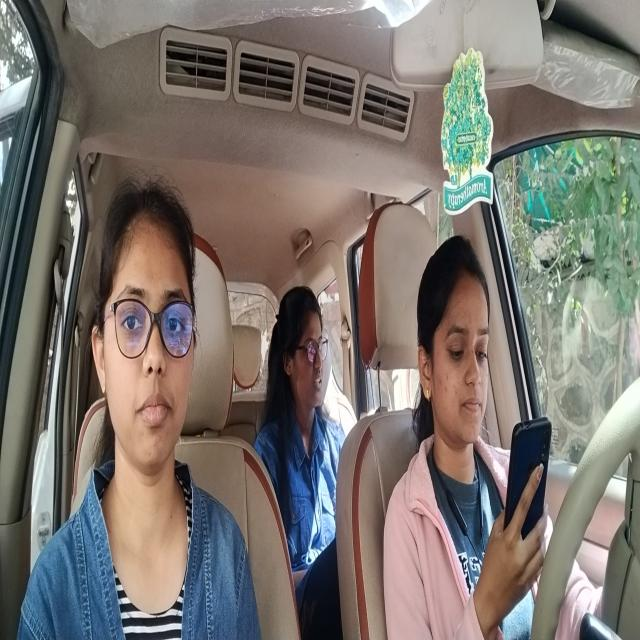mobile: (501, 395, 554, 583)
person: (93, 179, 199, 490), (416, 228, 496, 461), (274, 265, 334, 428)
